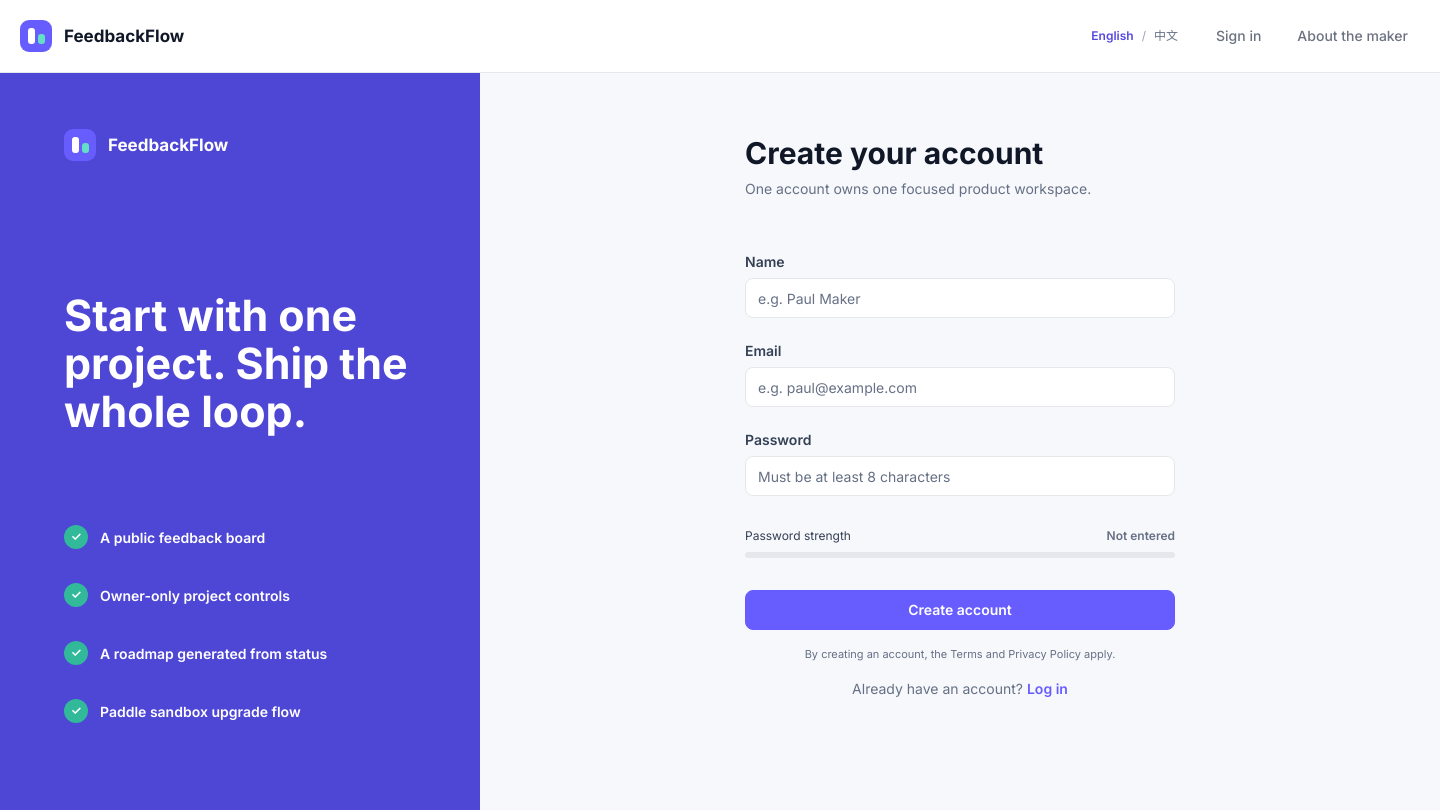
Test case: RegisterPage › shows server errors and keeps the user on the form
This screenshot has width=1440, height=810.
Type "Paul" into the field labelled "Name" at (960, 298), box left=745, top=278, right=1175, bottom=318
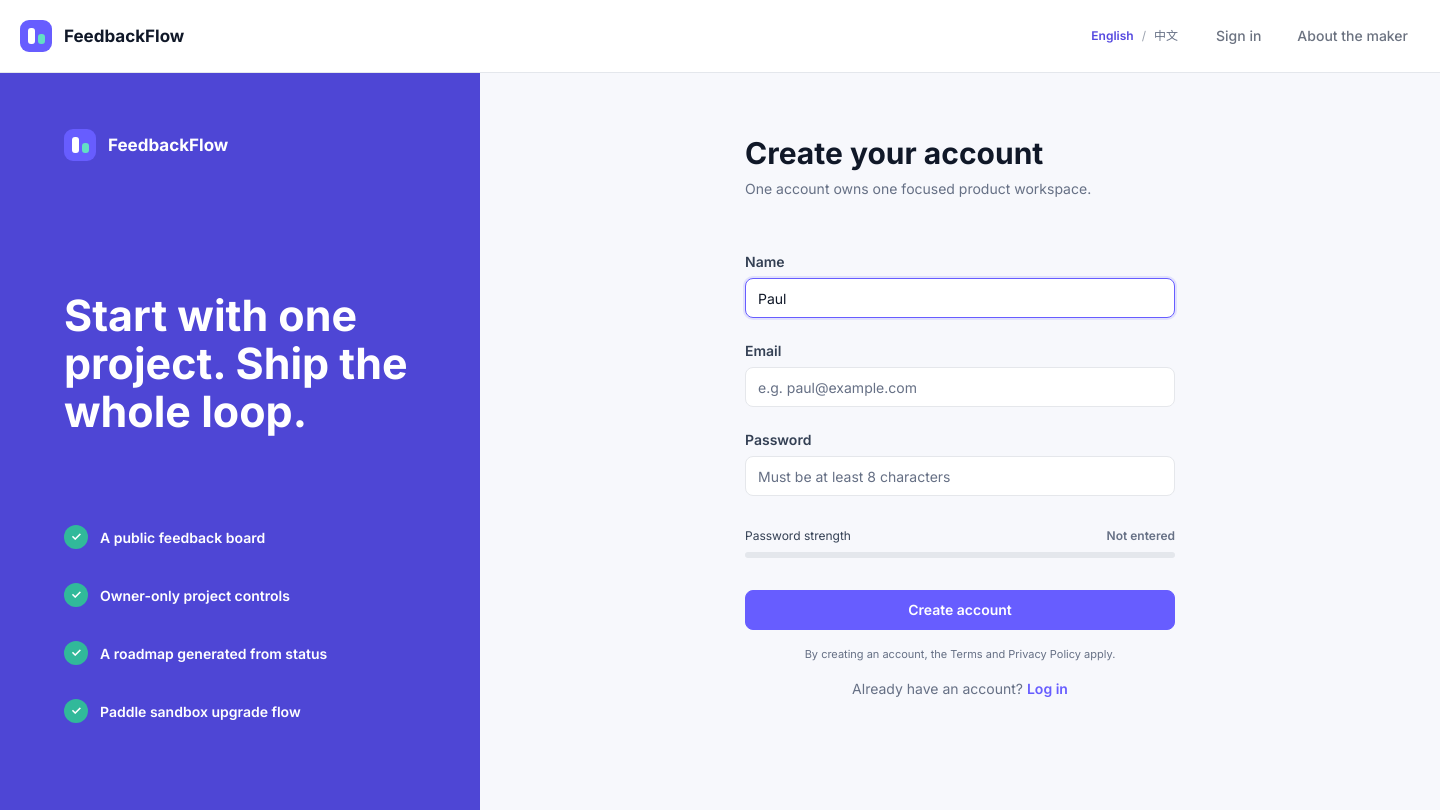
Type "paul@example.com" into the field labelled "Email" at (960, 387), box left=745, top=367, right=1175, bottom=407
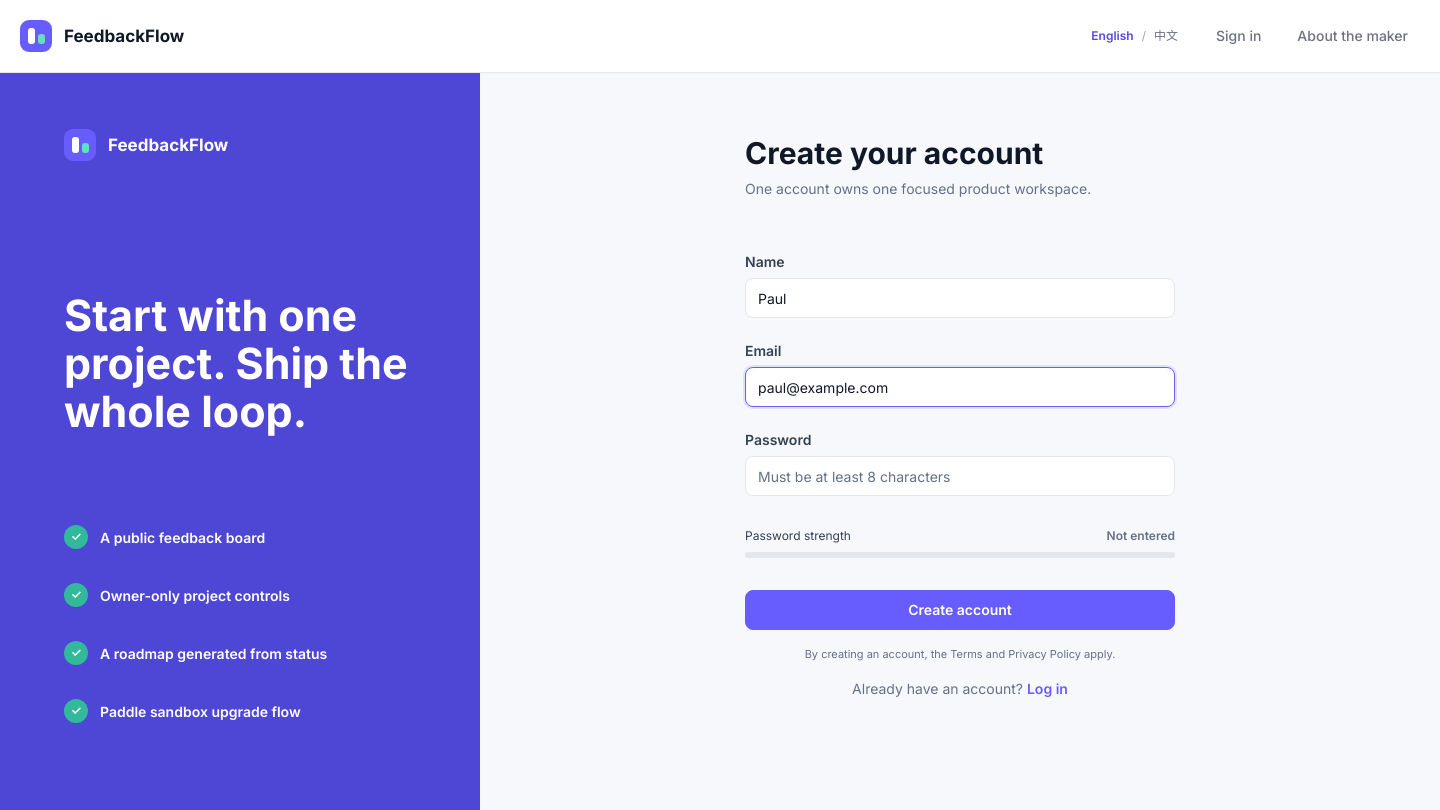
Type "Feedback123!" into the password field labelled "Password" at (960, 476), box left=745, top=456, right=1175, bottom=496
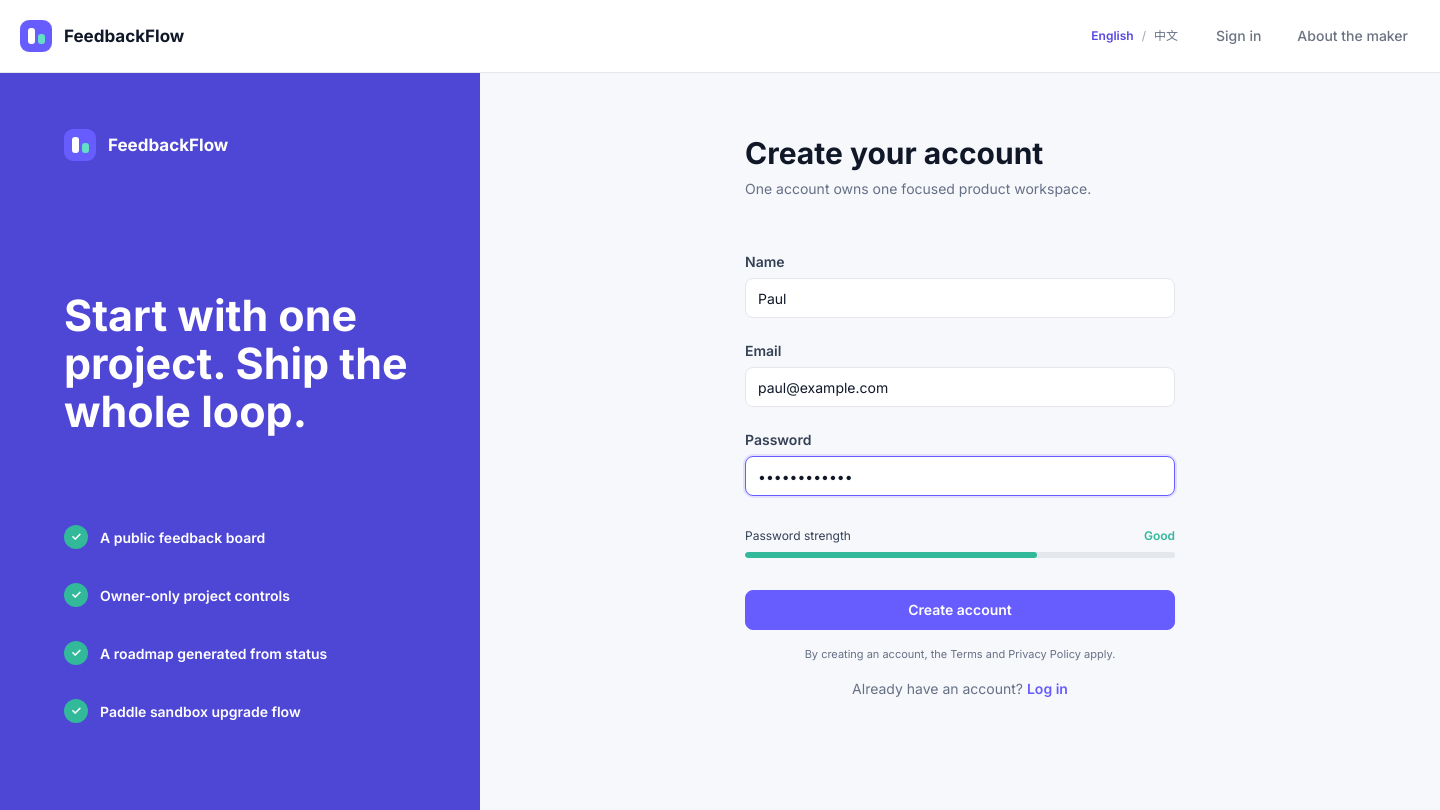
Click the button "Create account" at (960, 610), box left=745, top=590, right=1175, bottom=630
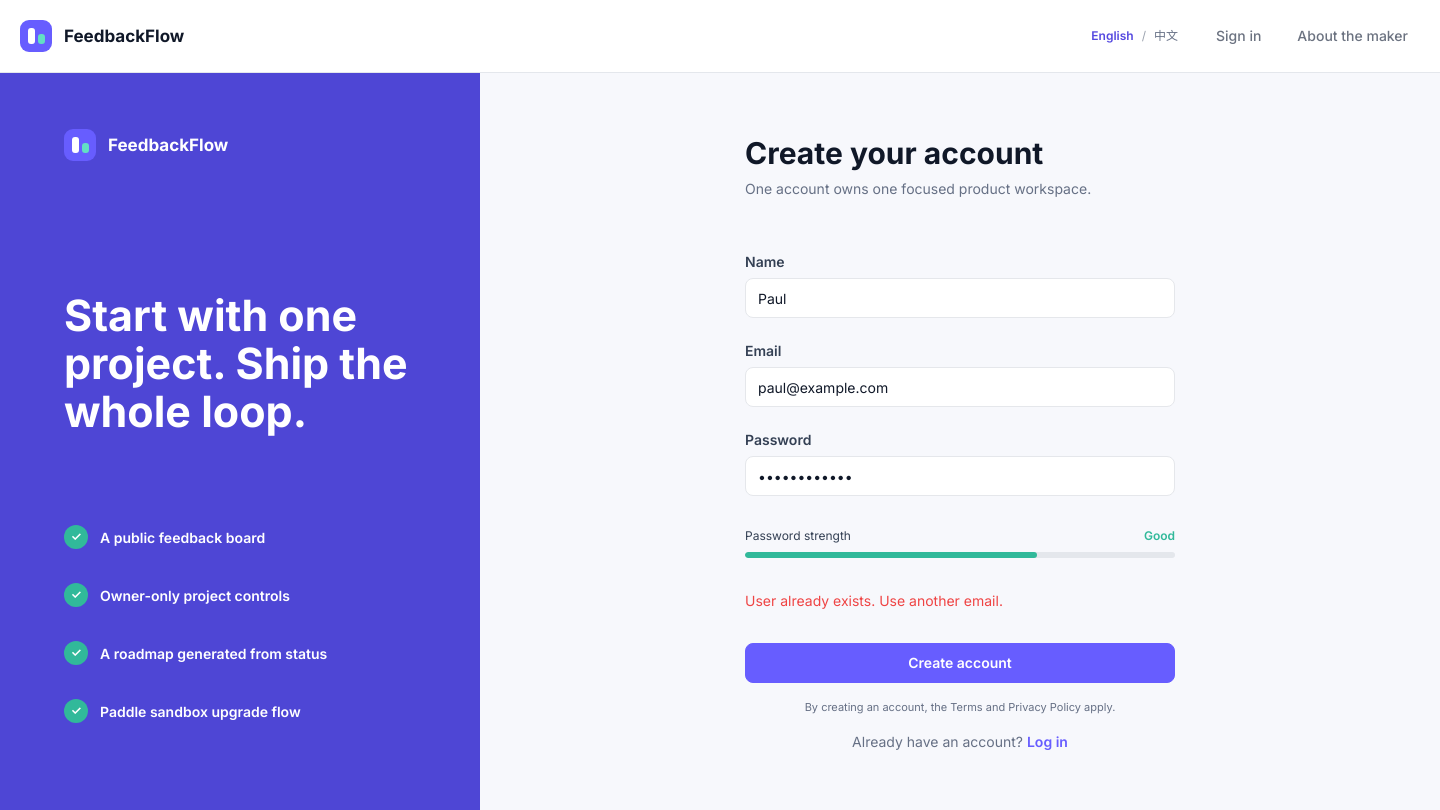
Expected: the message reads "User already exists. Use another email.", left=745, top=592, right=1003, bottom=609
